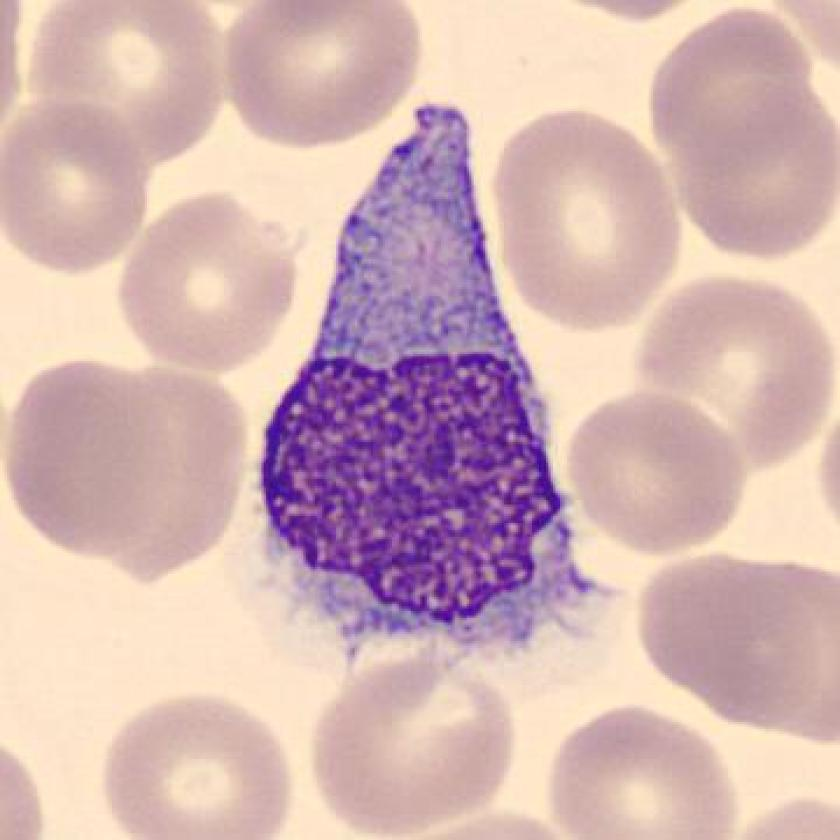monocyte: (239, 87, 622, 700)
